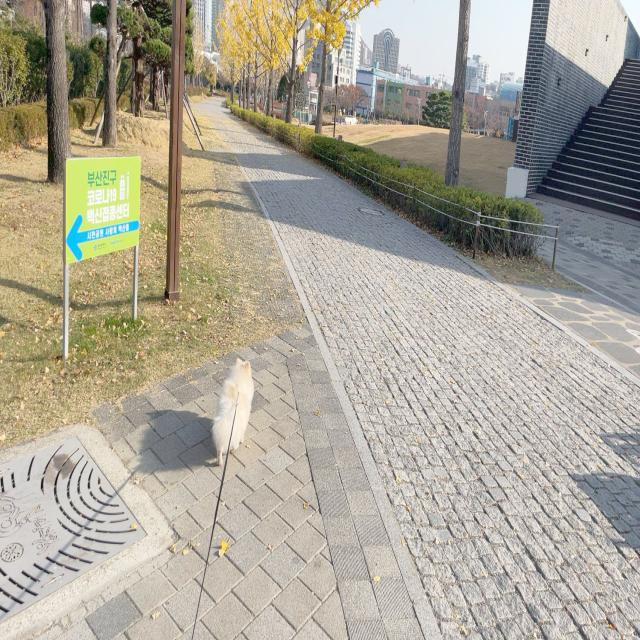Dog: (212, 356, 255, 464)
